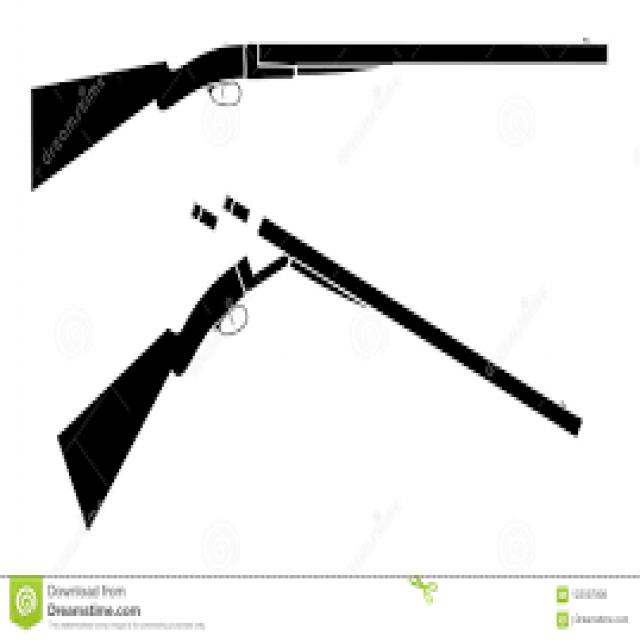long weapon: (10, 20, 616, 199)
